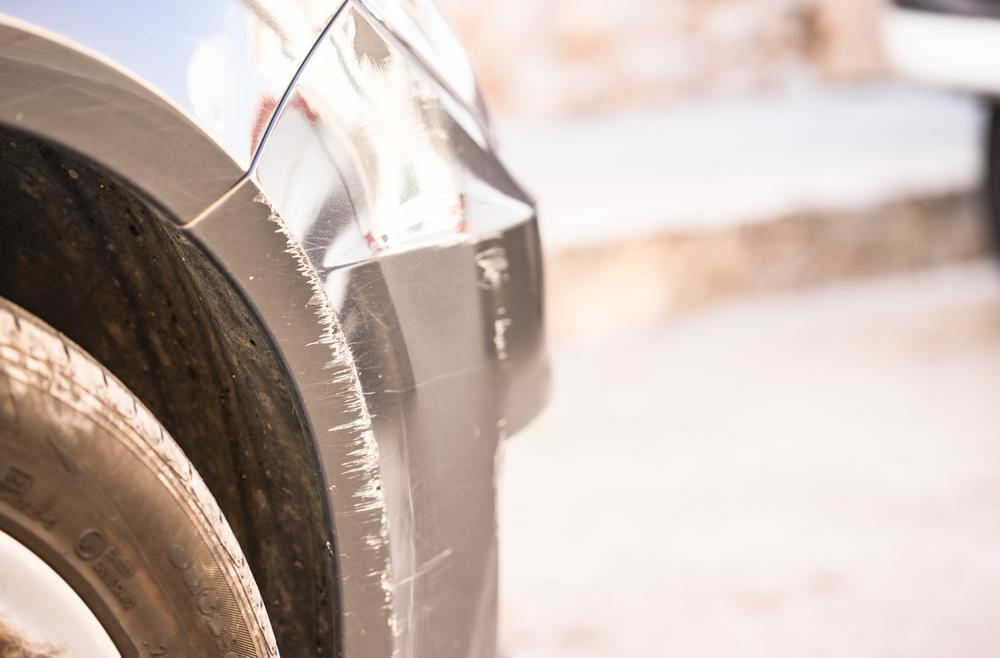scratch: (251, 189, 411, 658), (468, 228, 511, 378)
